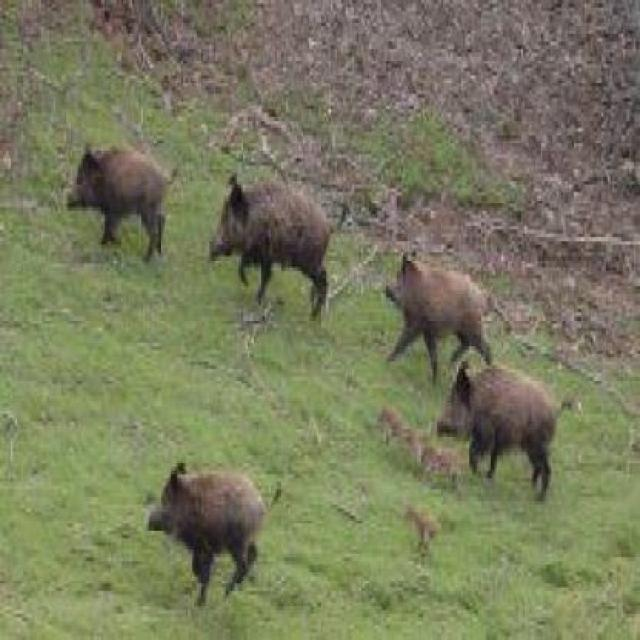wildboar: (208, 166, 354, 326), (147, 452, 291, 606), (438, 353, 578, 509), (381, 246, 501, 394), (65, 139, 182, 266), (404, 500, 441, 560), (422, 442, 462, 484), (378, 405, 407, 449), (398, 422, 428, 462)
